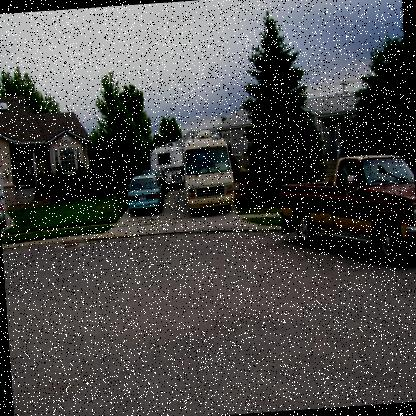Car: (126, 168, 168, 214), (0, 186, 9, 228)
